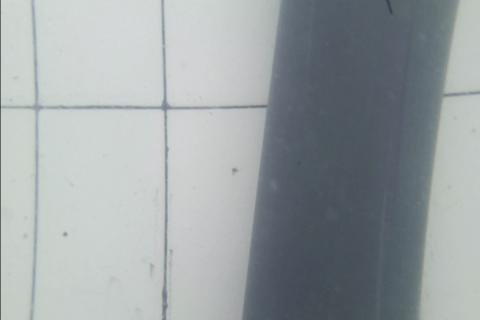keretakan: (381, 0, 394, 17)
